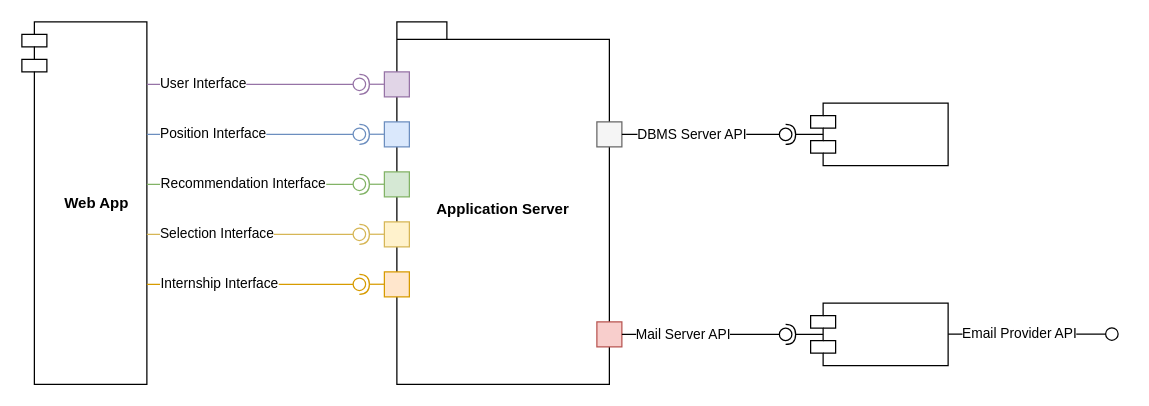
This 1149x406 diagram has some shape labels left out. Here are the shapes that lost their labels. From the top down, the centre of each, then its label:
the point at 878,134: DBMS Server
the point at 878,334: Mail Server
